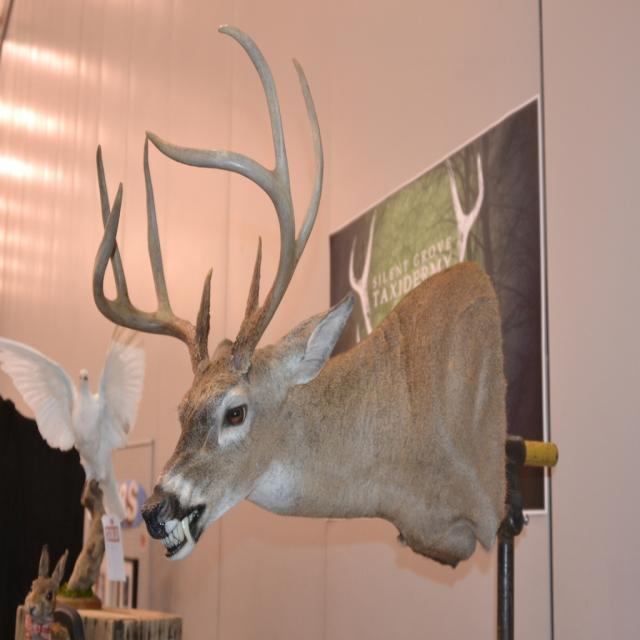Deer: (91, 24, 514, 568)
